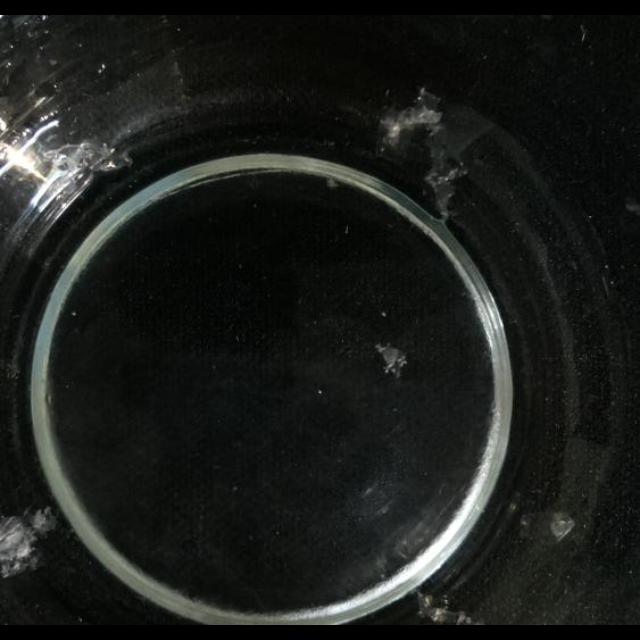Fibre: (0, 506, 58, 582), (377, 94, 443, 158), (48, 138, 124, 182), (394, 505, 448, 559), (416, 590, 474, 624), (522, 508, 574, 544), (426, 170, 462, 217), (624, 200, 640, 216), (325, 178, 339, 190), (580, 24, 588, 42)
microbeads: (374, 344, 408, 376), (235, 333, 242, 342), (344, 226, 350, 234)
